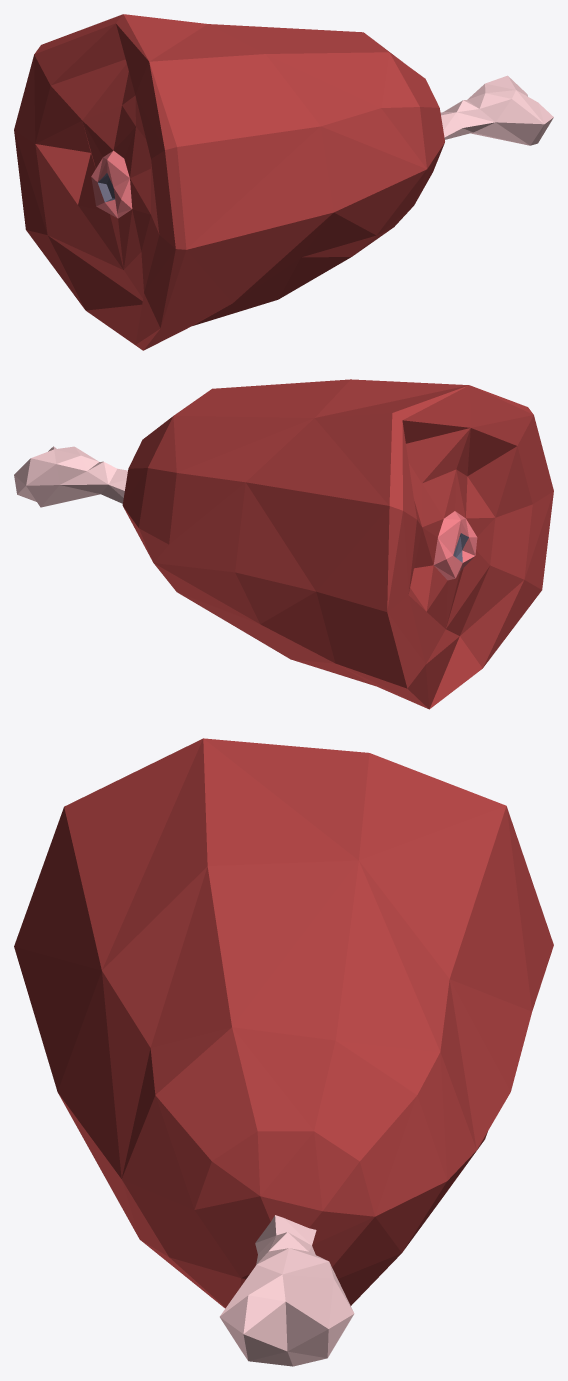
File: SFI_Meat_Cooked_005.fbx
The picture shows the model from 3 angles, top to bottom: view 1: azimuth 30°, elevation 25°; view 2: azimuth 150°, elevation 25°; view 3: azimuth 270°, elevation 25°; orthographic projection. The views are drawn at different scales.
Parts seen in each view (by area): view 1: SFI_Meat_Cooked_005; view 2: SFI_Meat_Cooked_005; view 3: SFI_Meat_Cooked_005.
Boxes of the visible parts, x1,y1,x2,y2 form: SFI_Meat_Cooked_005: (14,14,553,350); SFI_Meat_Cooked_005: (14,379,553,709); SFI_Meat_Cooked_005: (14,738,553,1366).
Bounding box in the file's own units: 78.08 × 48.36 × 50.59.
